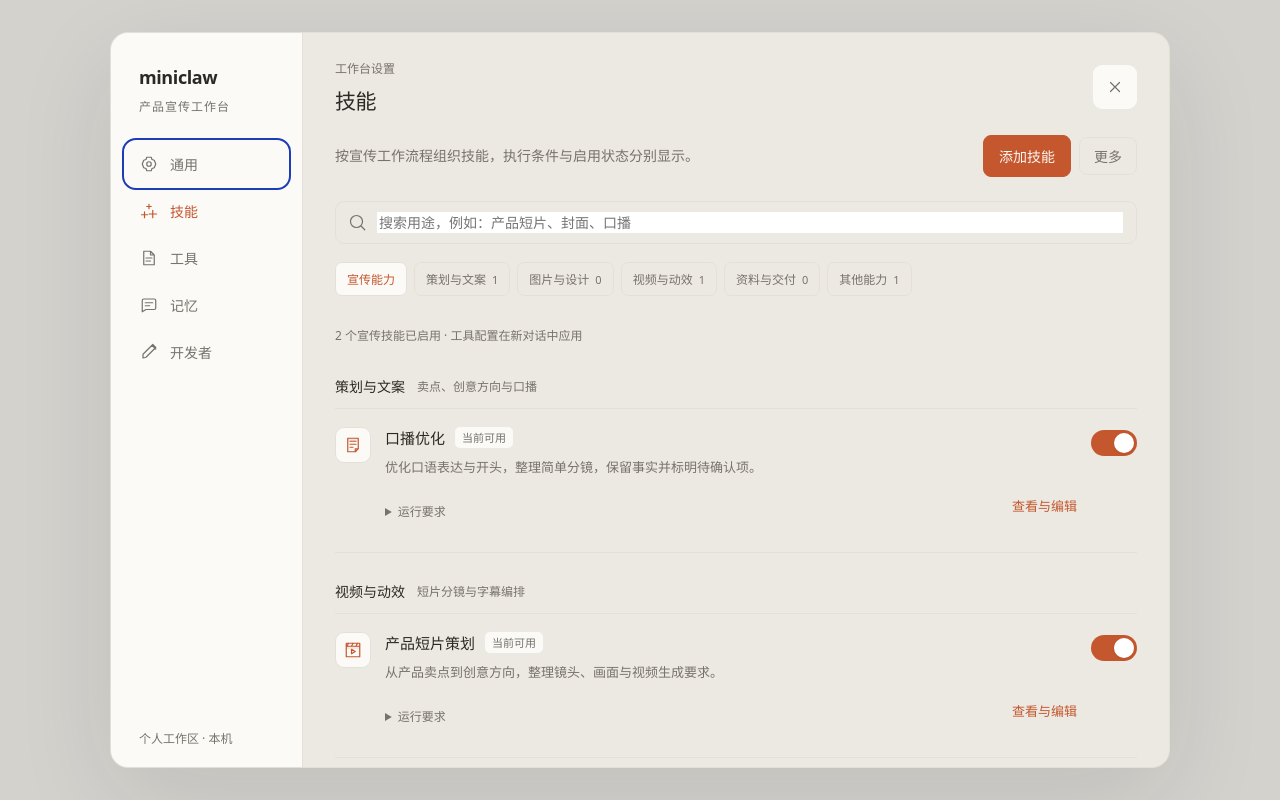
Test: failed skill configuration retains the previous state and shows a local error
Step 1. Click the switch named "启用技能 spoken-script" → (1114, 443), box [1091,430,1137,456]
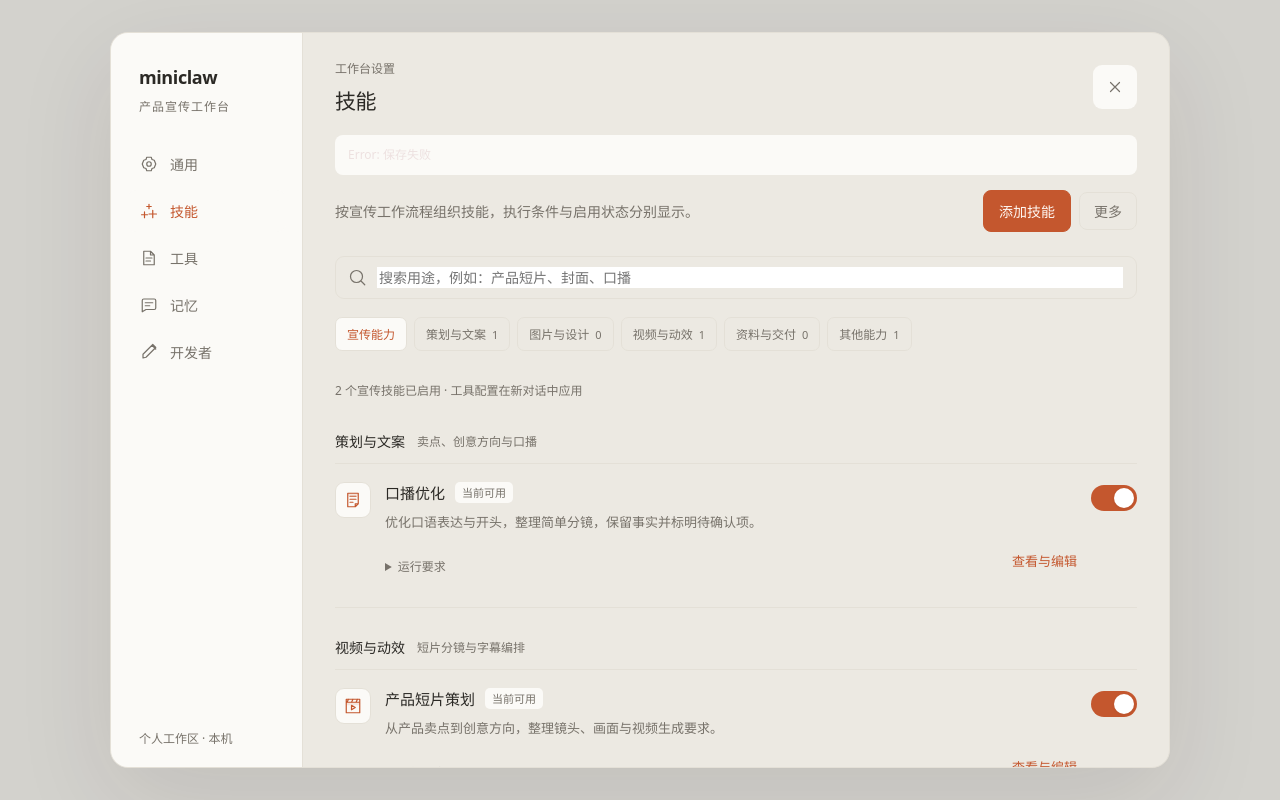
Now the message "Error: 保存失败" is shown, box [335,135,1137,175]
